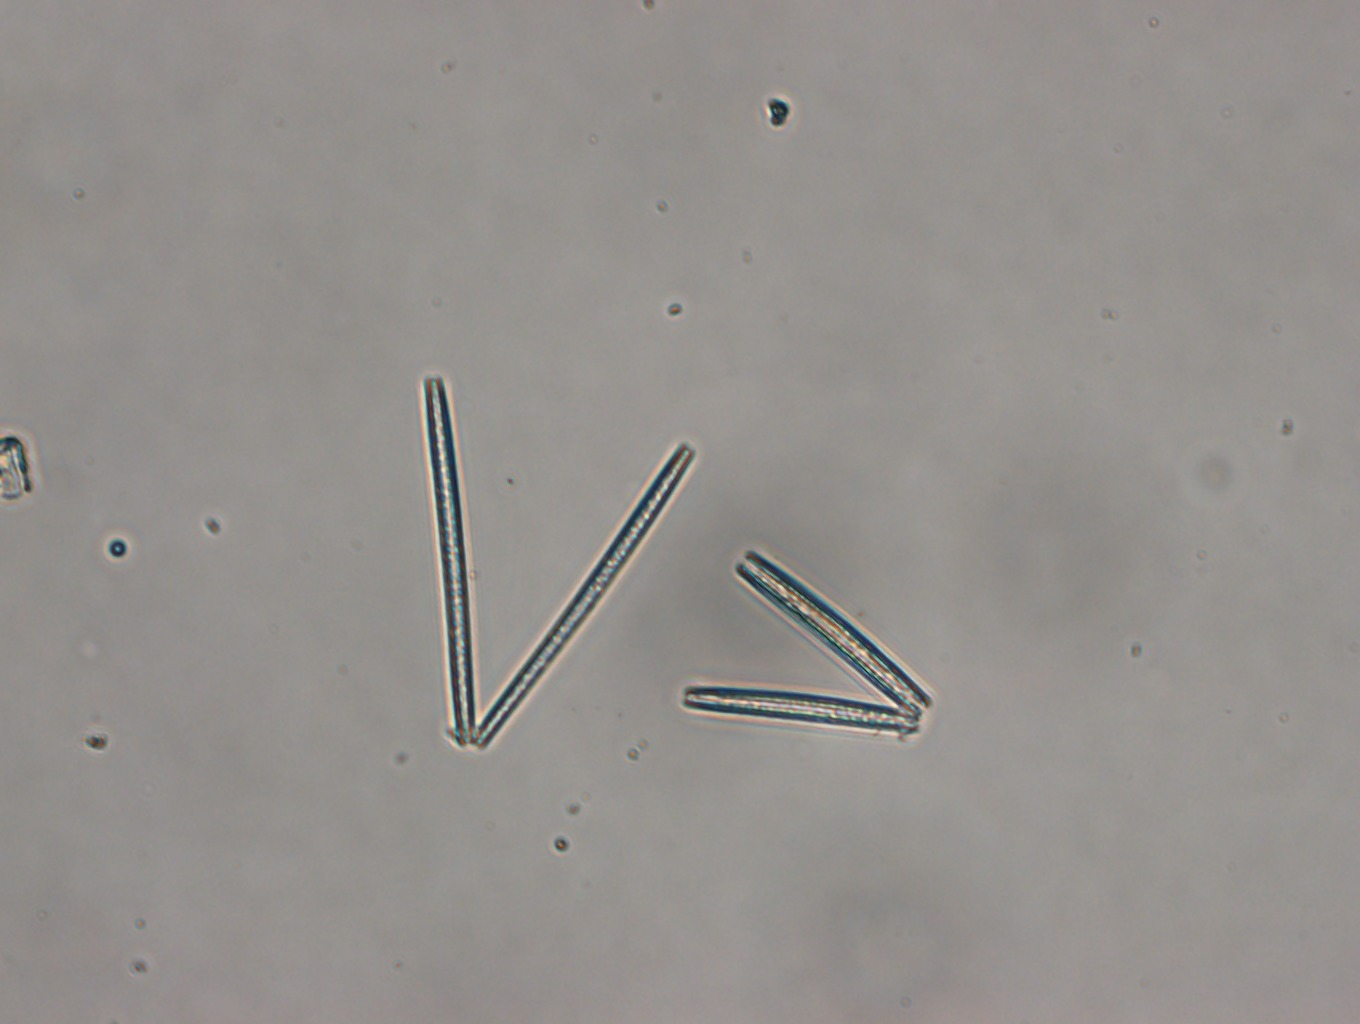thalassionema frauenfeldii: (423, 375, 695, 753)
thalassionema nitzschioides: (679, 549, 934, 741)
